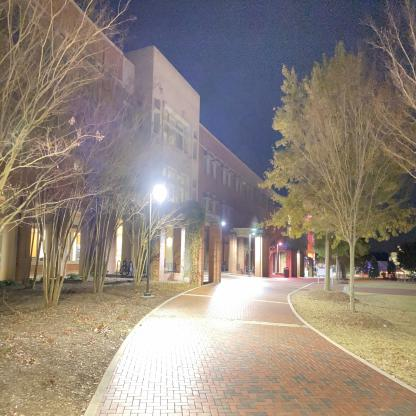eb2: (0, 3, 293, 281)
